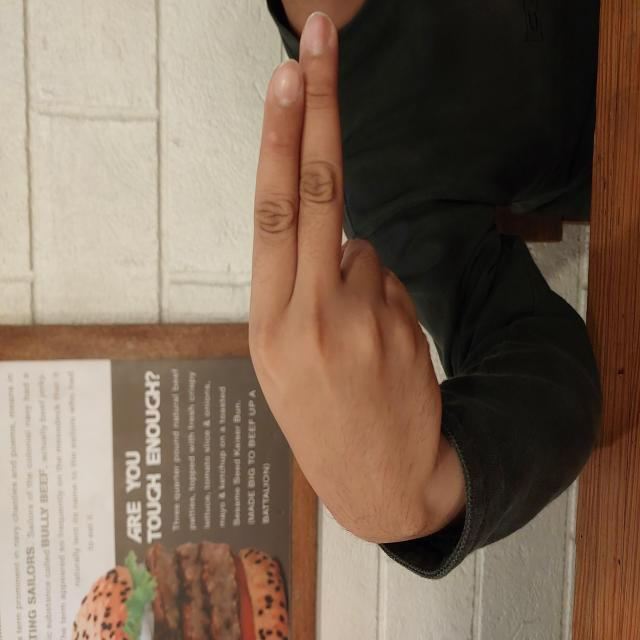H: (95, 245, 631, 445)
